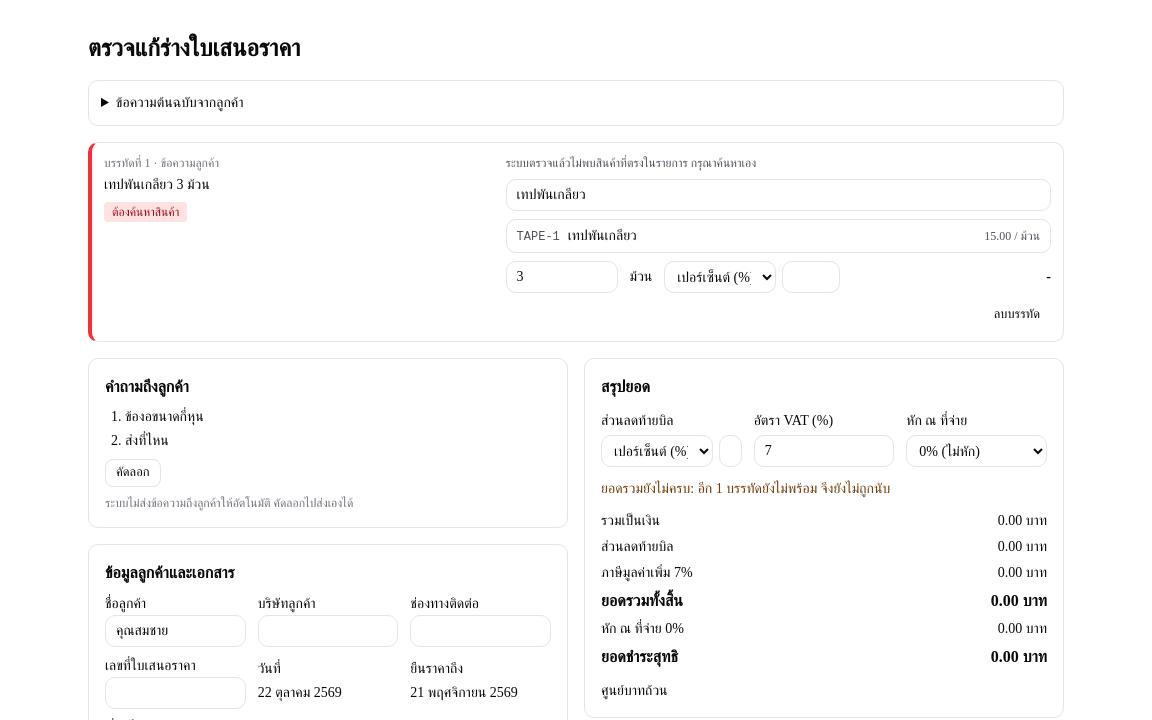
Scenario: searching the catalog › says so when nothing matches
Replace the text in the field named "ค้นหาสินค้า บรรทัดที่ 1" with "zzzzzz": (778, 195) top-left (506, 179), bottom-right (1051, 211)
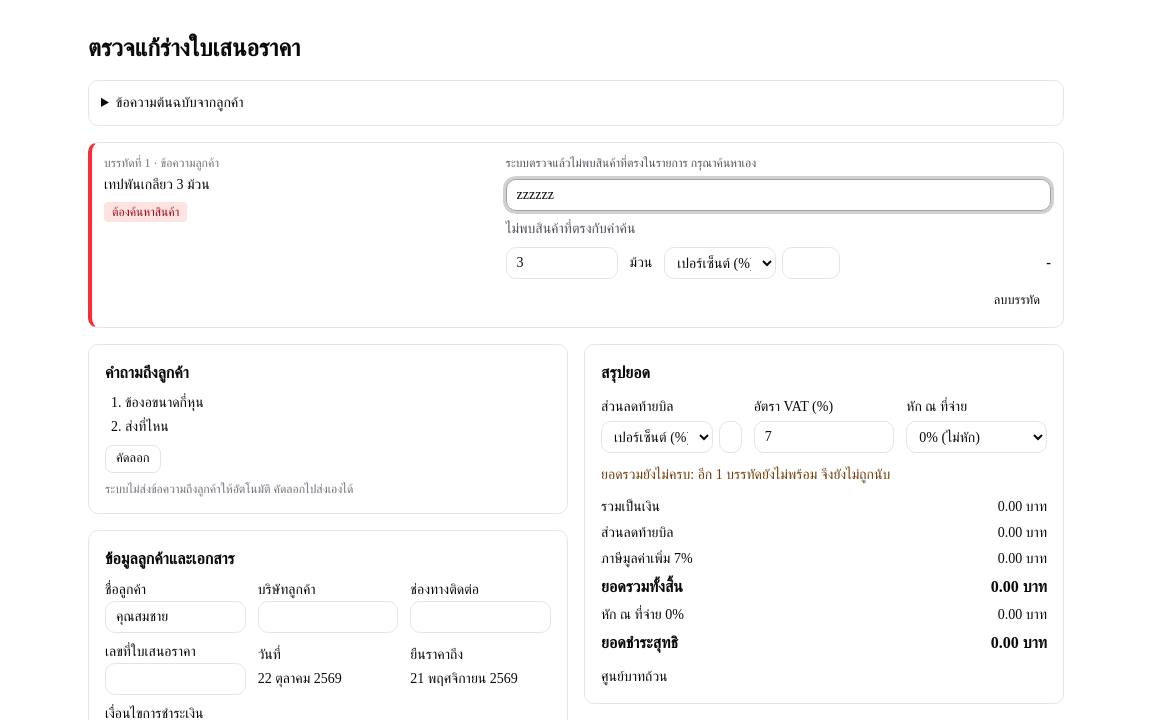
Expected: the text "ไม่พบสินค้าที่ตรงกับคำค้น" is shown, top-left (506, 221), bottom-right (635, 236)
